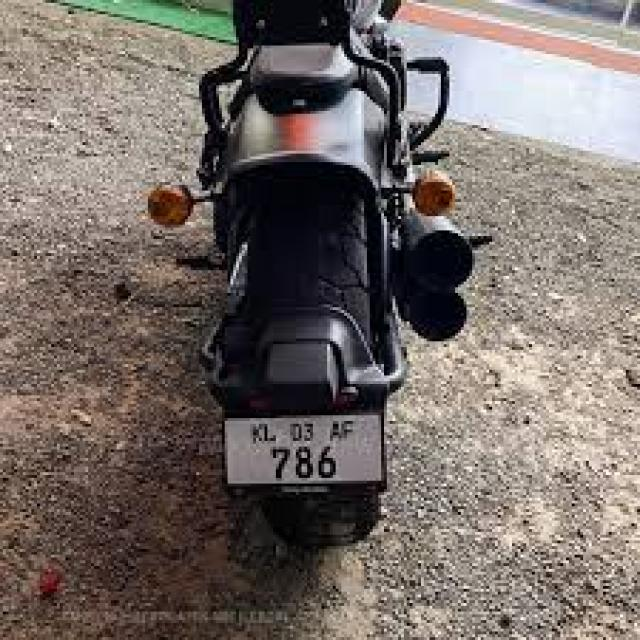number_plate: (210, 396, 432, 516)
